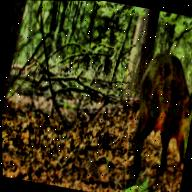boar: (114, 35, 192, 184)
